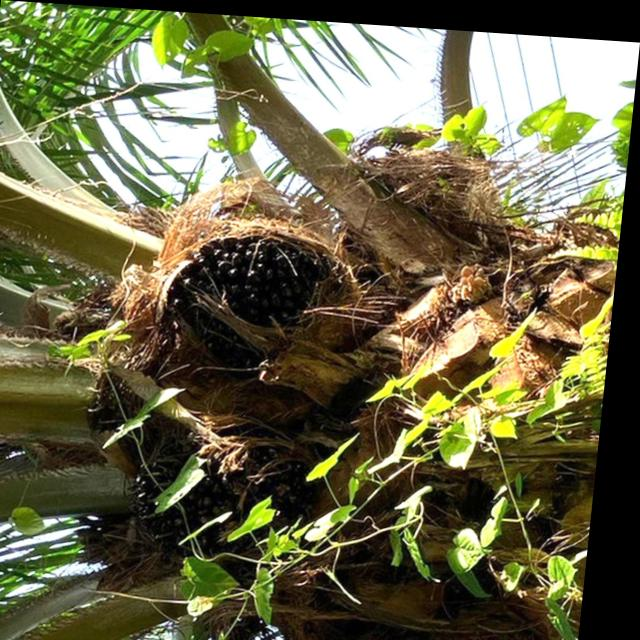unripe: (151, 211, 345, 366)
